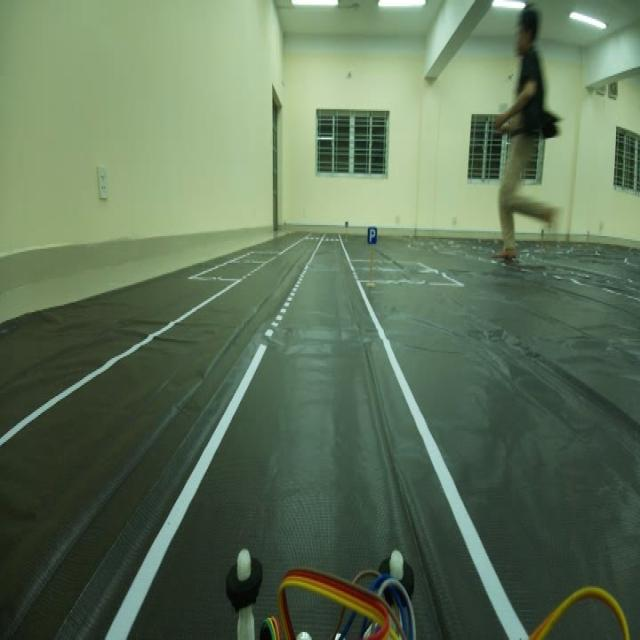parking: (360, 220, 382, 252)
